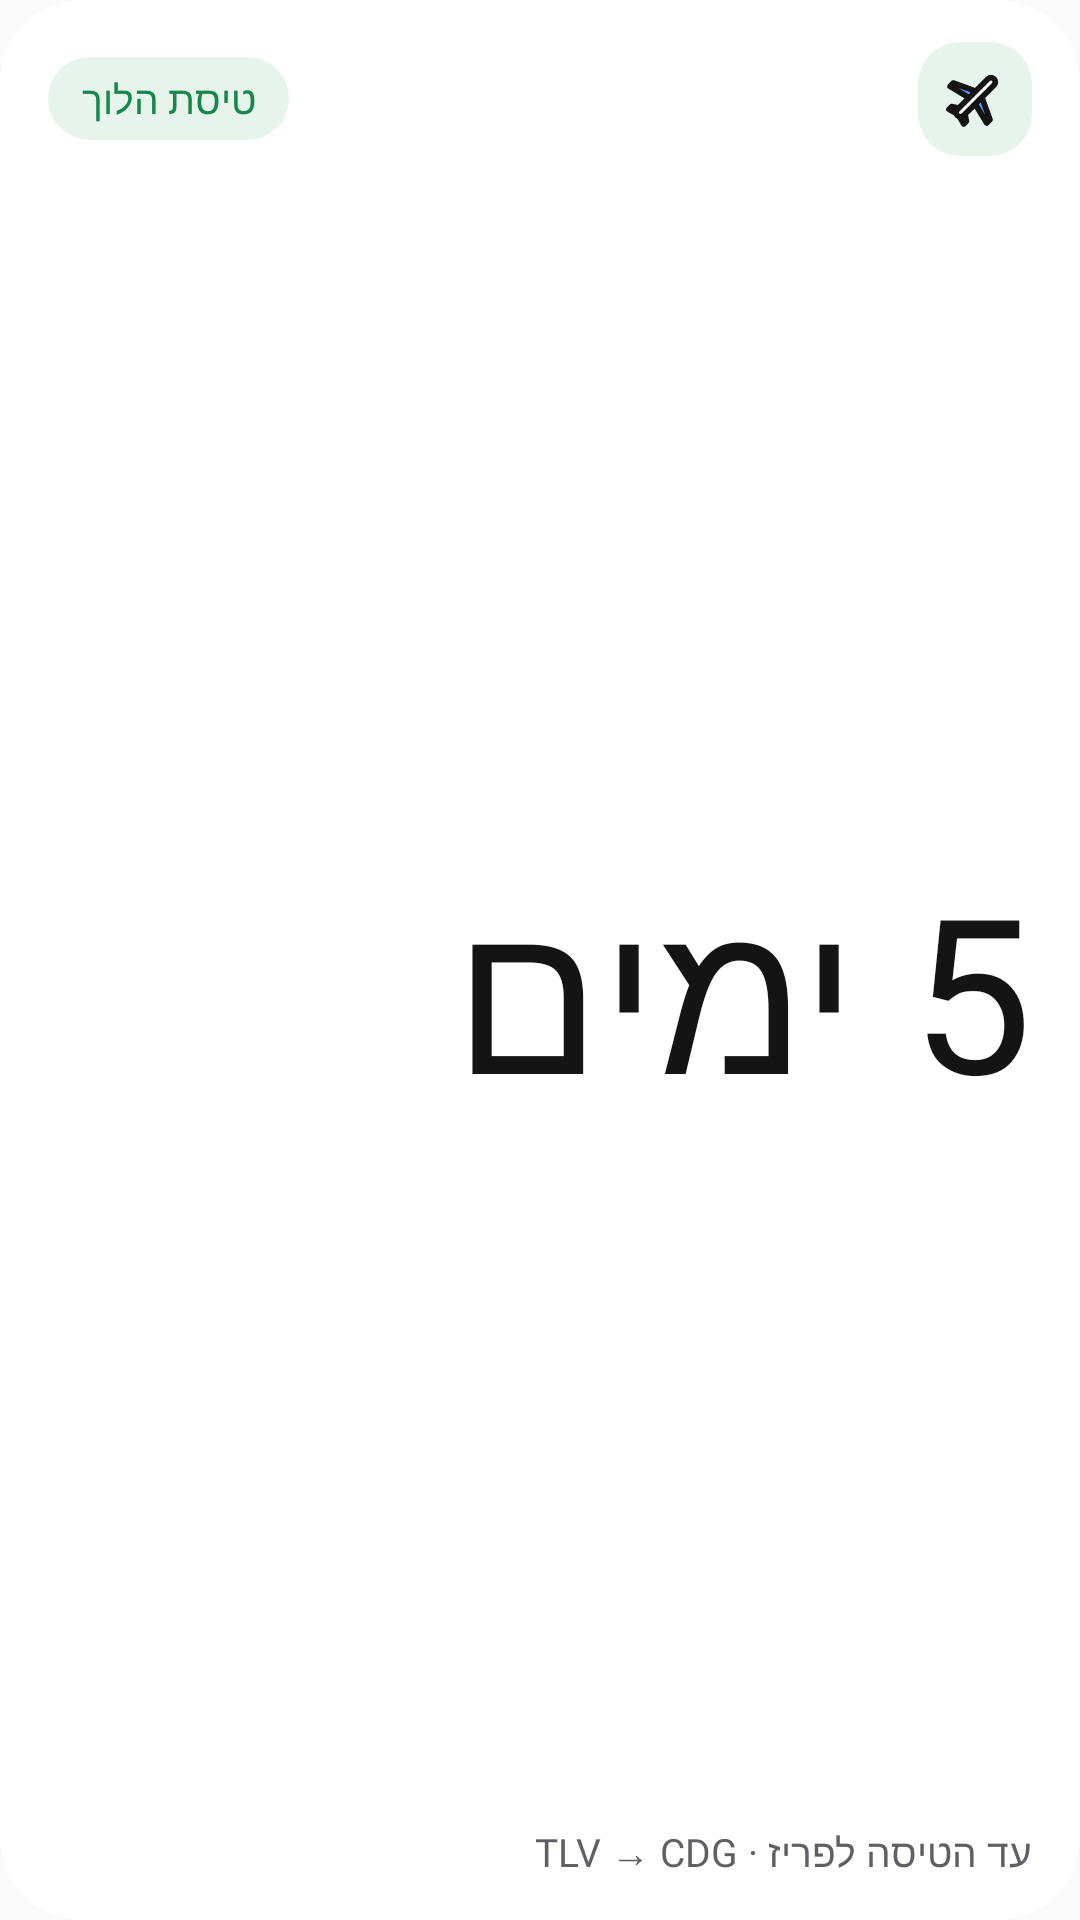

Locate icon controls on the screen. Image size 1080px×1920px, boxes as BBox(x1, y1, x2, y2).
plane: BBox(946, 75, 998, 127)
